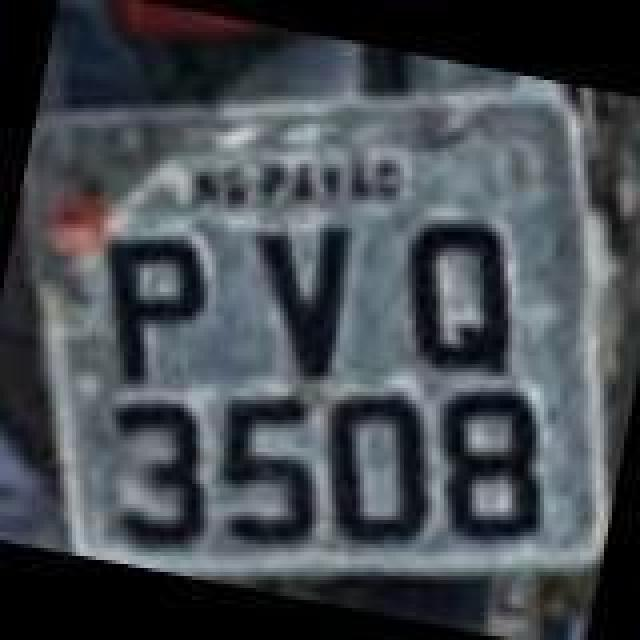3: (82, 386, 230, 558)
5: (202, 382, 342, 562)
8: (420, 374, 572, 554)
O: (304, 370, 448, 558)
P: (80, 220, 224, 404)
Q: (382, 202, 538, 390)
V: (228, 206, 364, 386)
